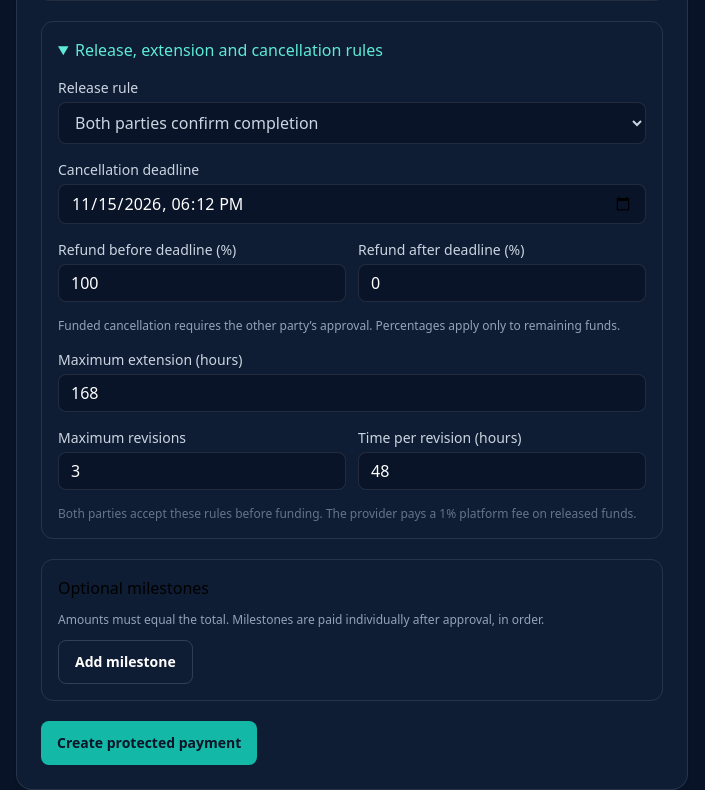
freelancing form supports optional milestone inputs and provider acceptance
This screenshot has width=705, height=790.
(page scrolled)
Click the button "Add milestone": (125, 662) [58, 640, 193, 684]
(page scrolled)
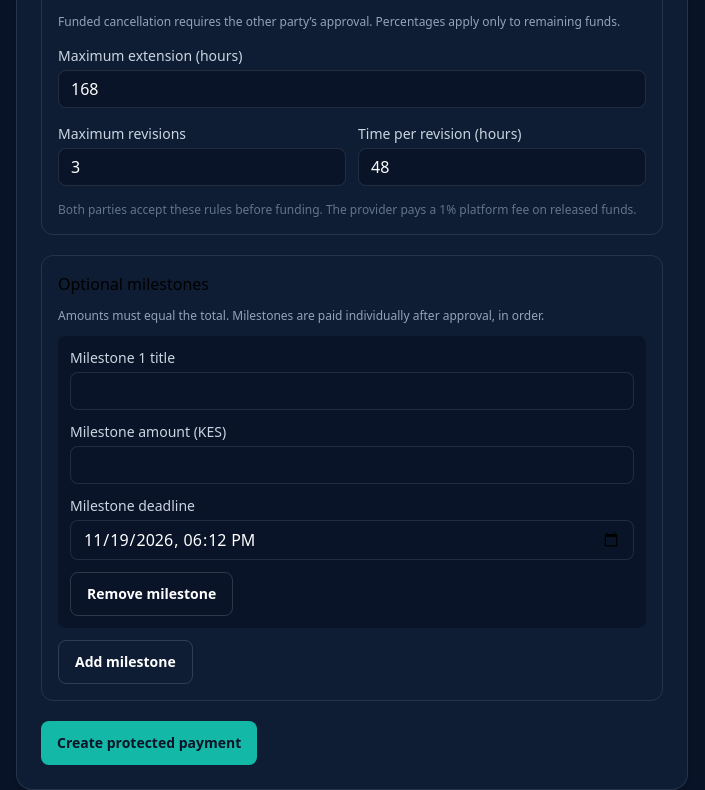
Expected: the field labelled "Milestone 1 title" is shown, [70, 372, 634, 410]
Expected: the field labelled "Milestone deadline" is shown, [70, 520, 634, 560]
Click the button "Remove milestone": (152, 594) [70, 572, 233, 616]
(page scrolled)
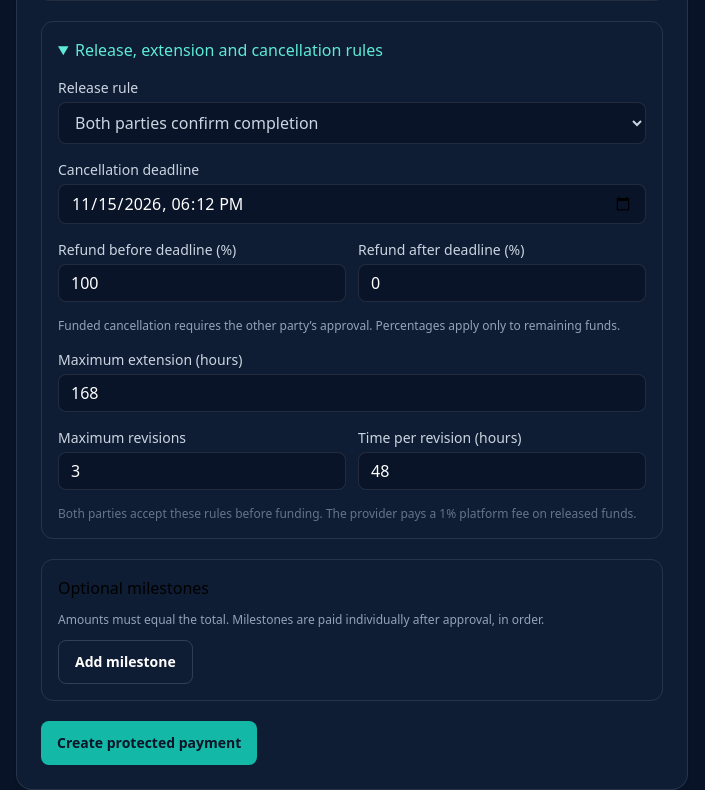
Expected: the text labelled "Milestone 1 title" is gone
